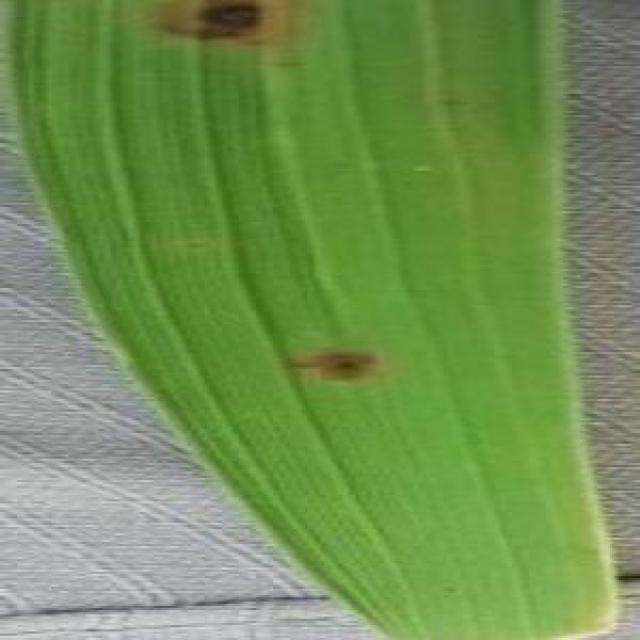brownspots: (290, 339, 395, 384), (172, 2, 260, 30)
